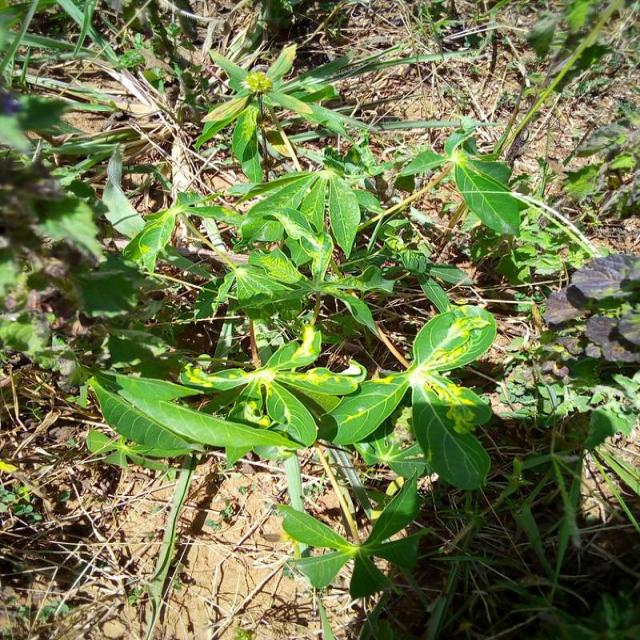cassava leaf: (86, 368, 302, 468), (453, 150, 521, 236)
